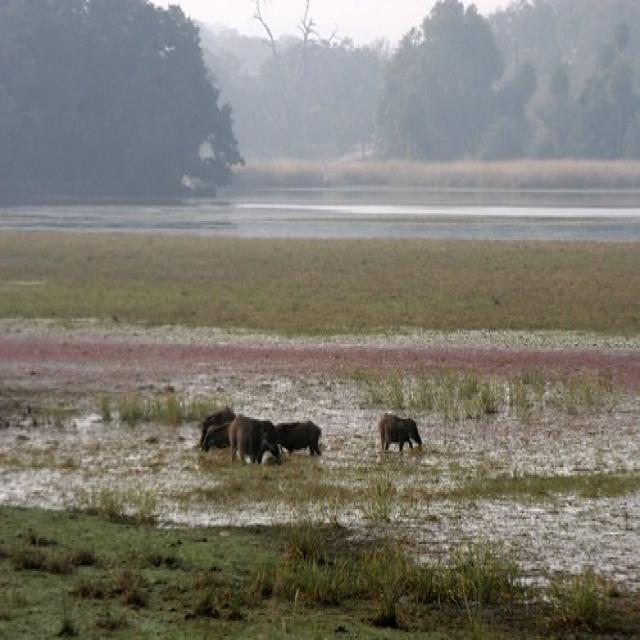boar: (268, 407, 327, 471), (225, 407, 282, 469), (373, 404, 427, 467), (193, 398, 241, 454)
